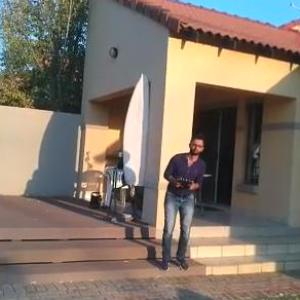follow: (157, 128, 207, 274)
